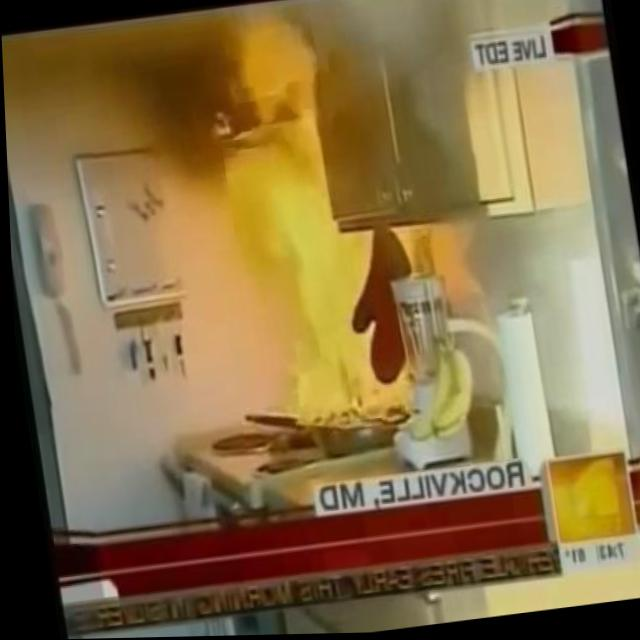fire: (190, 0, 415, 440)
